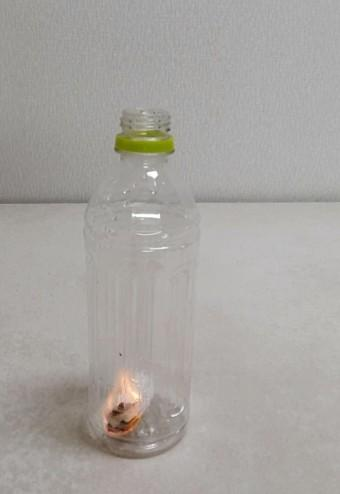bottle: (84, 110, 187, 458)
